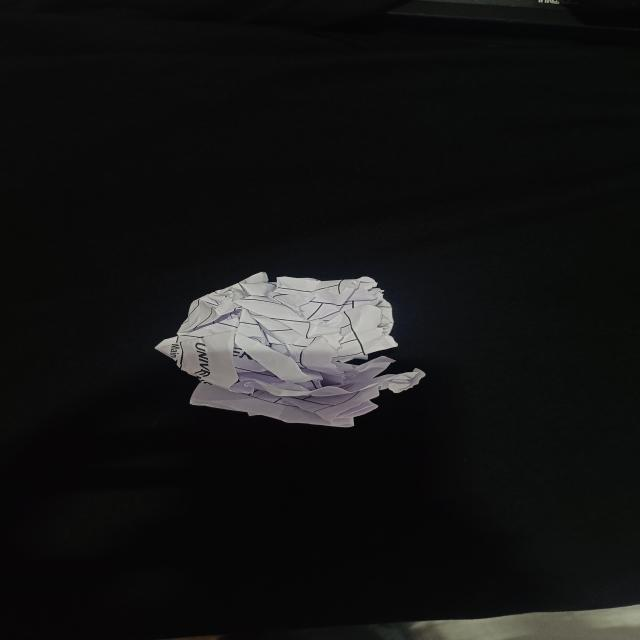PaperBall: (49, 271, 482, 627), (156, 271, 425, 423)
